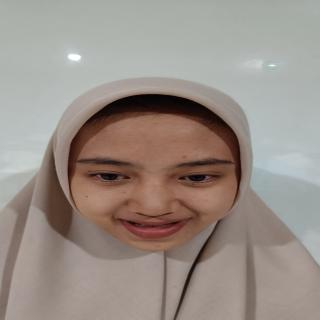Senang: (63, 99, 246, 254)
